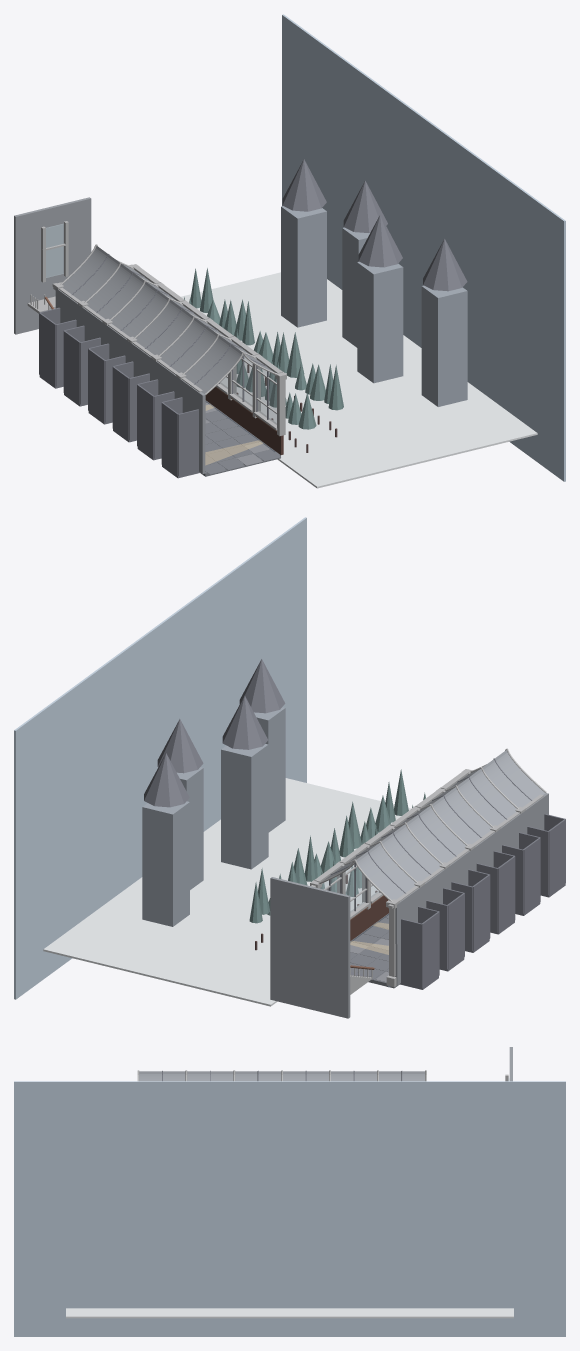
Rendered from lahudi-academy_ep01_s01_REBUILT_v2.glb.
3 views of the same model, one above another, from view 1: azimuth 30°, elevation 25°; view 2: azimuth 150°, elevation 25°; view 3: azimuth 270°, elevation 25° (orthographic). The views are drawn at different scales.
Parts seen in each view (by area): view 1: RB_EXTERIOR__distant_blue_sky, RB_EXTERIOR__winter_ground, RB_VAULT__continuous_pointed_stone_surface, RB_FAR__back_wall, RB_CASTLE__keep_2, RB_CASTLE__keep_3, RB_CASTLE__keep_0, RB_CASTLE__keep_1, RB_CASTLE__spire_2, RB_CASTLE__spire_0, RB_CASTLE__spire_3, RB_PORTAL_5__vestibule_side_1 (+22 smaller); view 2: RB_EXTERIOR__distant_blue_sky, RB_EXTERIOR__winter_ground, RB_VAULT__continuous_pointed_stone_surface, RB_FAR__back_wall, RB_CASTLE__keep_2, RB_CASTLE__keep_0, RB_CASTLE__keep_3, RB_CASTLE__keep_1, RB_CASTLE__spire_0, RB_CASTLE__spire_2, RB_PORTAL_0__vestibule_side_-1, RB_CASTLE__spire_3 (+19 smaller); view 3: RB_EXTERIOR__distant_blue_sky, RB_EXTERIOR__winter_ground, RB_VAULT__continuous_pointed_stone_surface.
Boxes of the visible parts, x1,y1,x2,y2 form: RB_EXTERIOR__distant_blue_sky: (282, 14, 565, 481); RB_EXTERIOR__winter_ground: (181, 272, 537, 488); RB_VAULT__continuous_pointed_stone_surface: (62, 246, 273, 394); RB_FAR__back_wall: (14, 197, 91, 334); RB_CASTLE__keep_2: (357, 261, 403, 383); RB_CASTLE__keep_3: (421, 285, 467, 406); RB_CASTLE__keep_0: (281, 206, 326, 327); RB_CASTLE__keep_1: (342, 227, 369, 347); RB_CASTLE__spire_2: (358, 215, 402, 267); RB_CASTLE__spire_0: (282, 159, 326, 211); RB_CASTLE__spire_3: (423, 238, 467, 291); RB_PORTAL_5__vestibule_side_1: (178, 409, 198, 476); RB_EXTERIOR__distant_blue_sky: (14, 517, 306, 999); RB_EXTERIOR__winter_ground: (43, 778, 410, 1006); RB_VAULT__continuous_pointed_stone_surface: (323, 750, 545, 899); RB_FAR__back_wall: (270, 877, 350, 1018); RB_CASTLE__keep_2: (221, 744, 268, 869); RB_CASTLE__keep_0: (142, 801, 189, 926); RB_CASTLE__keep_3: (254, 707, 285, 832); RB_CASTLE__keep_1: (177, 767, 203, 889); RB_CASTLE__spire_0: (144, 753, 189, 807); RB_CASTLE__spire_2: (222, 695, 267, 749); RB_PORTAL_0__vestibule_side_-1: (401, 919, 422, 987); RB_CASTLE__spire_3: (239, 659, 285, 713); RB_EXTERIOR__distant_blue_sky: (14, 1081, 565, 1336); RB_EXTERIOR__winter_ground: (66, 1308, 513, 1318); RB_VAULT__continuous_pointed_stone_surface: (139, 1071, 424, 1081).
Bounding box in the file's own units: 36.66 × 27 × 53.
